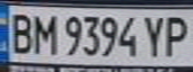3: (78, 12, 103, 57)
4: (118, 12, 142, 59)
9: (60, 11, 84, 57), (100, 12, 121, 57)
B: (3, 9, 36, 54)
M: (30, 10, 57, 55)
P: (160, 11, 193, 57)
Y: (139, 12, 172, 59)
